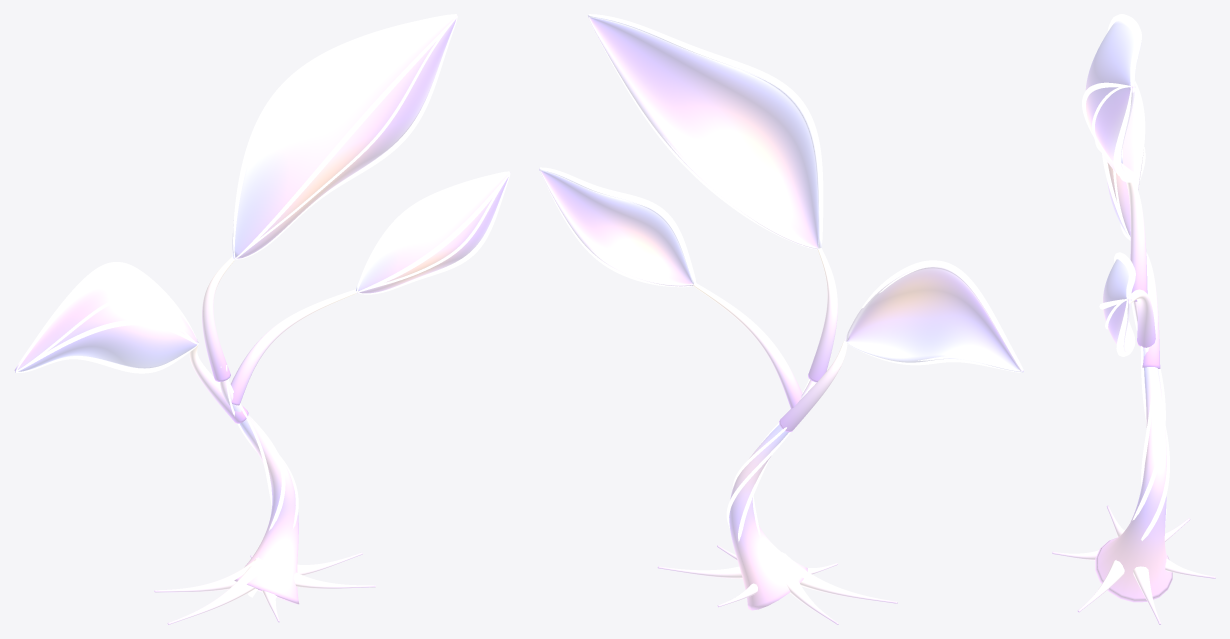
Rendered from 04_Three-leaf_Tree.glb.
3 renders of one model, left to right at view 1: azimuth 30°, elevation 25°; view 2: azimuth 150°, elevation 25°; view 3: azimuth 270°, elevation 25°, orthographic. The views are drawn at different scales.
Parts seen in each view (by area): view 1: Crown | leaf blade, Left | leaf blade.001, Right | leaf blade.001, Trunk | sculpted stem.001, Crown | pearl lip, Right | branch.001, Crown | branch, Crown | central vein, Left | warm lip.001, Crown | warm lip, Right | pearl lip.001, Root | flare 4.001 (+8 smaller); view 2: Crown | leaf blade, Left | leaf blade.001, Right | leaf blade.001, Trunk | sculpted stem.001, Crown | pearl lip, Right | branch.001, Crown | branch, Left | branch.001, Left | warm lip.001, Right | pearl lip.001, Root | flare 4.001, Crown | warm lip (+1 smaller); view 3: Trunk | sculpted stem.001, Crown | leaf blade, Right | leaf blade.001, Left | leaf blade.001, Crown | branch, Right | branch.001, Left | branch.001, Crown | warm lip, Left | warm lip.001, Trunk | spiral filament 3.001, Trunk | spiral filament 4.001, Crown | pearl lip (+11 smaller).
Boxes of the visible parts, left/top/right/bottom form: Crown | leaf blade: left=232, top=14, right=457, bottom=259; Left | leaf blade.001: left=14, top=268, right=198, bottom=372; Right | leaf blade.001: left=356, top=171, right=509, bottom=293; Trunk | sculpted stem.001: left=220, top=379, right=299, bottom=604; Crown | pearl lip: left=233, top=15, right=456, bottom=258; Right | branch.001: left=229, top=289, right=356, bottom=405; Crown | branch: left=202, top=256, right=234, bottom=381; Crown | central vein: left=235, top=16, right=457, bottom=259; Left | warm lip.001: left=16, top=262, right=198, bottom=371; Crown | warm lip: left=235, top=16, right=457, bottom=259; Right | pearl lip.001: left=356, top=172, right=509, bottom=291; Root | flare 4.001: left=167, top=558, right=267, bottom=624; Crown | leaf blade: left=588, top=14, right=822, bottom=249; Left | leaf blade.001: left=845, top=266, right=1023, bottom=372; Right | leaf blade.001: left=539, top=167, right=695, bottom=287; Trunk | sculpted stem.001: left=729, top=380, right=816, bottom=610; Crown | pearl lip: left=595, top=14, right=823, bottom=242; Right | branch.001: left=693, top=282, right=802, bottom=408; Crown | branch: left=808, top=248, right=837, bottom=382; Left | branch.001: left=779, top=341, right=847, bottom=432; Left | warm lip.001: left=860, top=260, right=1022, bottom=367; Right | pearl lip.001: left=545, top=167, right=696, bottom=282; Root | flare 4.001: left=779, top=553, right=897, bottom=603; Crown | warm lip: left=598, top=38, right=791, bottom=241; Trunk | sculpted stem.001: left=1095, top=301, right=1172, bottom=602; Crown | leaf blade: left=1085, top=21, right=1141, bottom=179; Right | leaf blade.001: left=1103, top=259, right=1135, bottom=351; Left | leaf blade.001: left=1107, top=100, right=1145, bottom=236; Crown | branch: left=1126, top=181, right=1147, bottom=301; Right | branch.001: left=1131, top=289, right=1155, bottom=347; Left | branch.001: left=1142, top=252, right=1160, bottom=368; Crown | warm lip: left=1113, top=87, right=1138, bottom=182; Left | warm lip.001: left=1130, top=81, right=1145, bottom=230; Trunk | spiral filament 3.001: left=1132, top=368, right=1165, bottom=520; Trunk | spiral filament 4.001: left=1131, top=302, right=1169, bottom=540; Crown | pearl lip: left=1107, top=14, right=1141, bottom=85.
Bounding box in the file's own units: 3.09 × 3.32 × 0.807.
